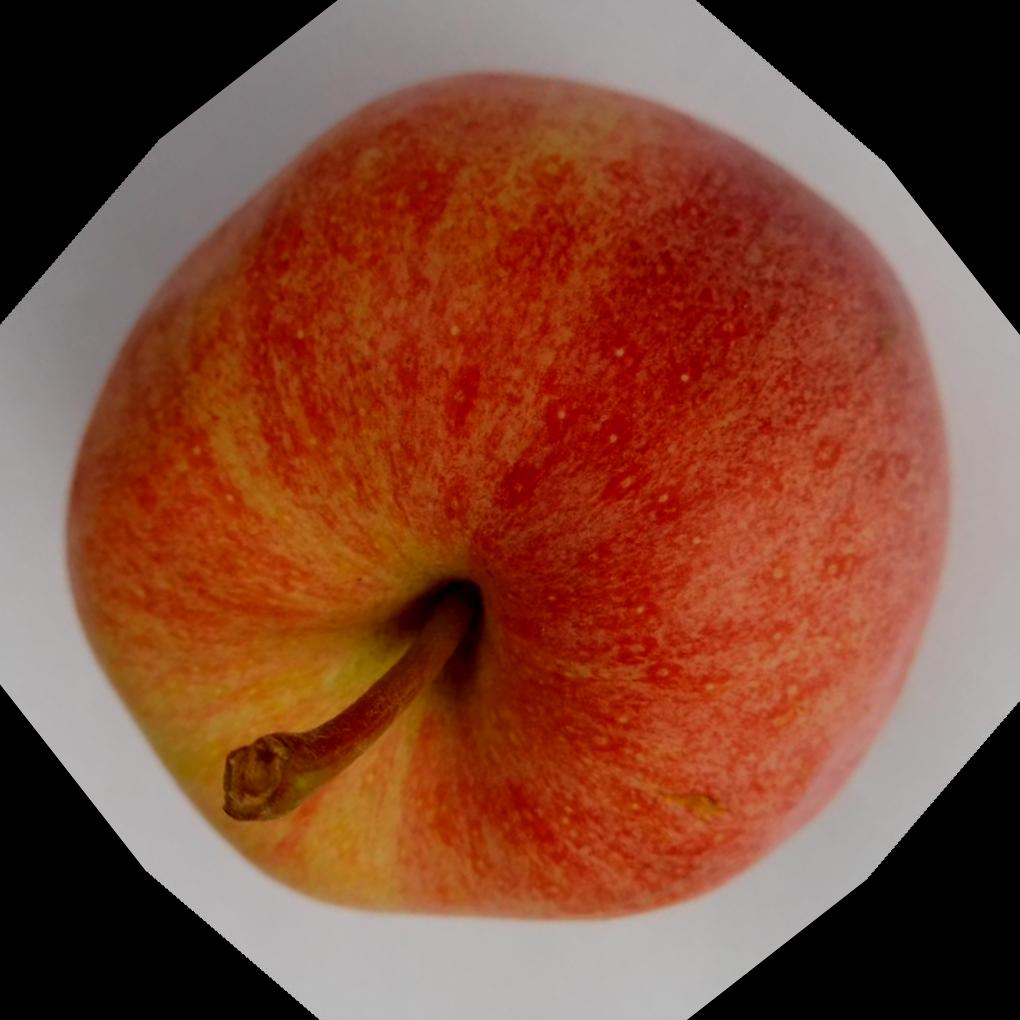FreshGuava: (60, 61, 952, 922)
